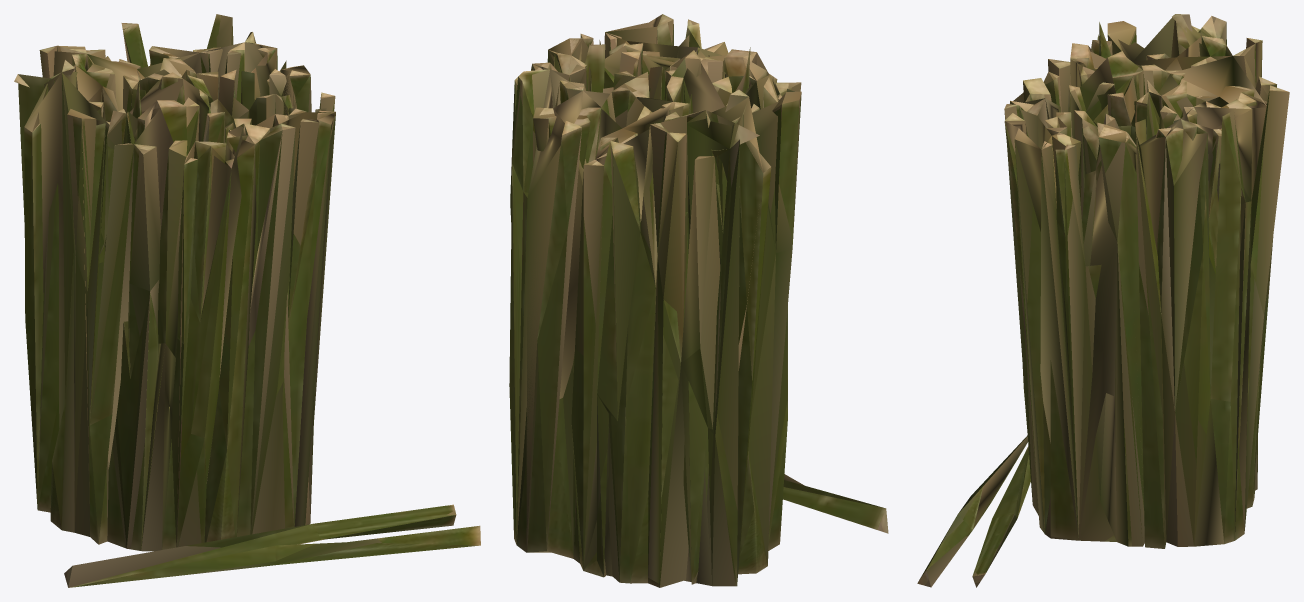
The model's file is junco_cortado.glb.
3 renders of one model, left to right at view 1: azimuth 30°, elevation 25°; view 2: azimuth 150°, elevation 25°; view 3: azimuth 270°, elevation 25°, orthographic. The views are drawn at different scales.
Visible parts, largest first — view 1: cerca, medio, lejos; view 2: cerca, medio, lejos; view 3: medio, cerca, lejos.
Boxes of the visible parts, x1=… form: cerca: x1=15, y1=14, x2=480, y2=587; medio: x1=14, y1=15, x2=456, y2=587; lejos: x1=24, y1=42, x2=335, y2=526; cerca: x1=509, y1=14, x2=888, y2=587; medio: x1=512, y1=14, x2=883, y2=587; lejos: x1=526, y1=27, x2=779, y2=585; medio: x1=925, y1=14, x2=1289, y2=587; cerca: x1=917, y1=14, x2=1288, y2=585; lejos: x1=1009, y1=17, x2=1266, y2=539.
Bounding box in the file's own units: 0.2433 × 0.3 × 0.226.
Materials: 2 (1 with a texture image).
